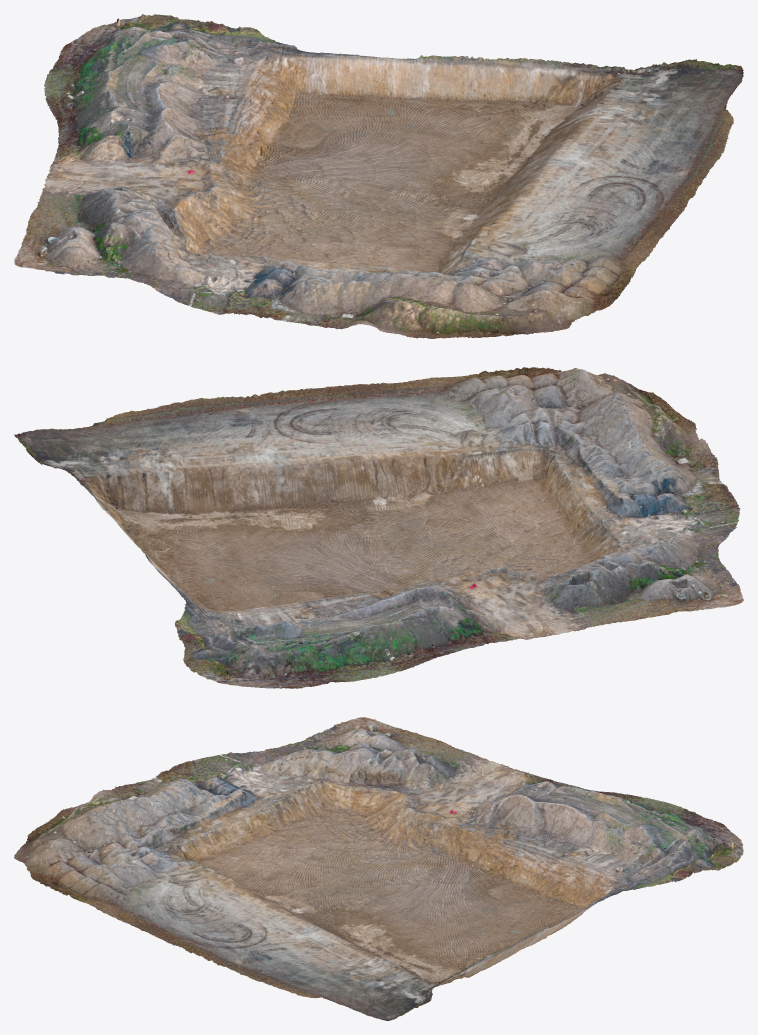
File: emptyland.glb
3 views of the same model, one above another, from view 1: azimuth 30°, elevation 25°; view 2: azimuth 150°, elevation 25°; view 3: azimuth 270°, elevation 25° (orthographic). The views are drawn at different scales.
Visible parts, largest first — view 1: Object_3, Object_2, Object_4; view 2: Object_3, Object_2, Object_4; view 3: Object_3, Object_2, Object_4.
Part boxes in pixels (box(x1,y1,x2,y2)): Object_3: box(14, 107, 725, 338); Object_2: box(41, 14, 629, 322); Object_4: box(54, 15, 743, 327); Object_3: box(156, 367, 743, 654); Object_2: box(170, 409, 733, 688); Object_4: box(14, 400, 717, 672); Object_3: box(14, 717, 588, 985); Object_2: box(147, 729, 743, 931); Object_4: box(128, 759, 738, 1020).
Bounding box in the file's own units: 65.25 × 4.94 × 65.35.
1 material, 1 textured.
